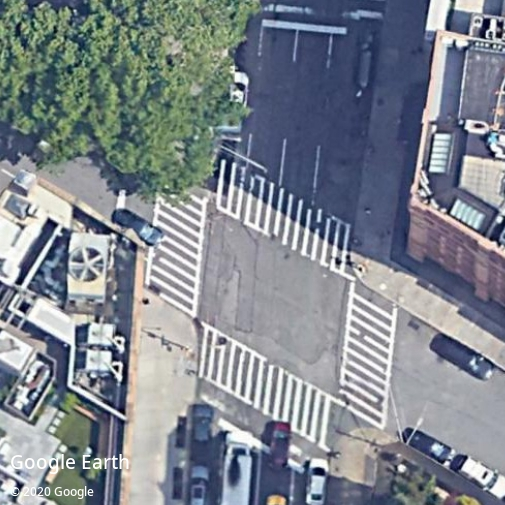Vent: (69, 246, 105, 282)
